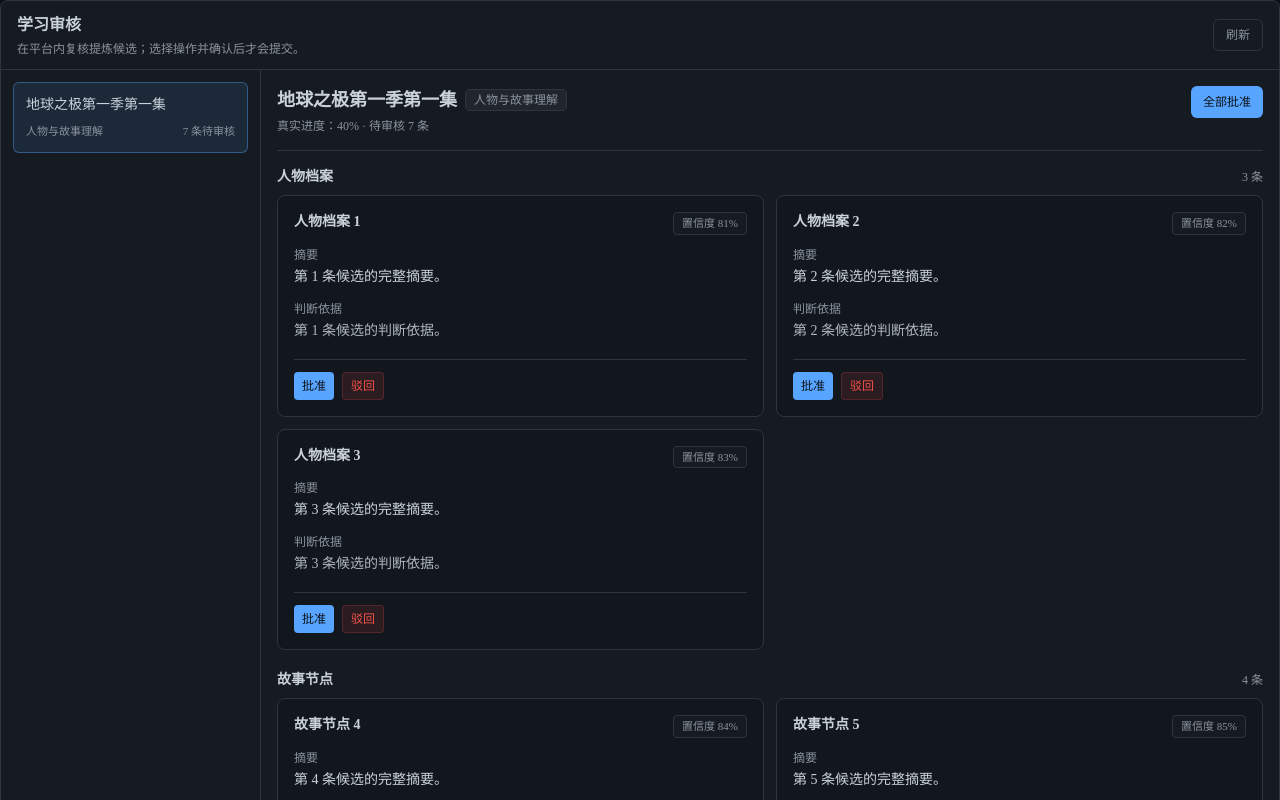
it: DirectorLearningReviewPanel › closes a local cancellation even when its remote outcome is unknown
Click the button with aria-label "批准：人物档案 1": [314, 386] box [294,372,334,400]
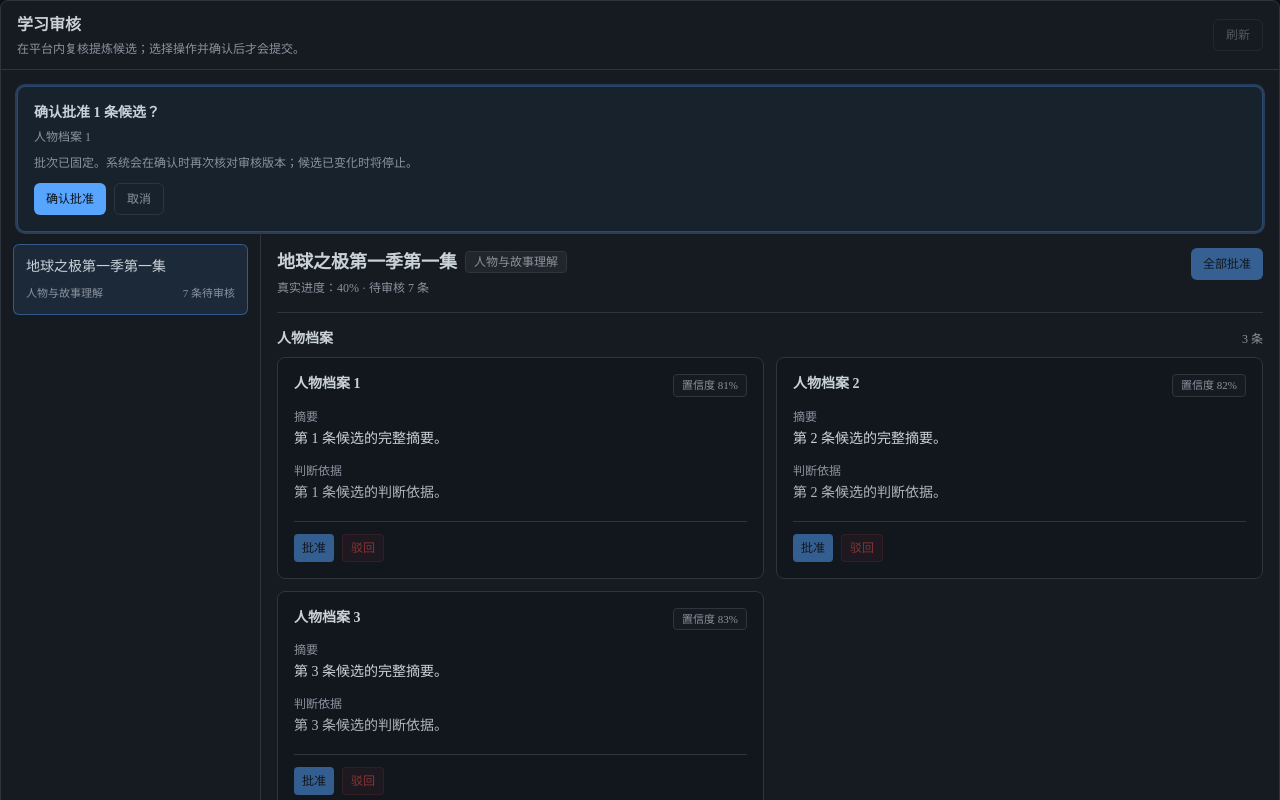
Click the button "取消": [139, 199] box [114,183,164,215]
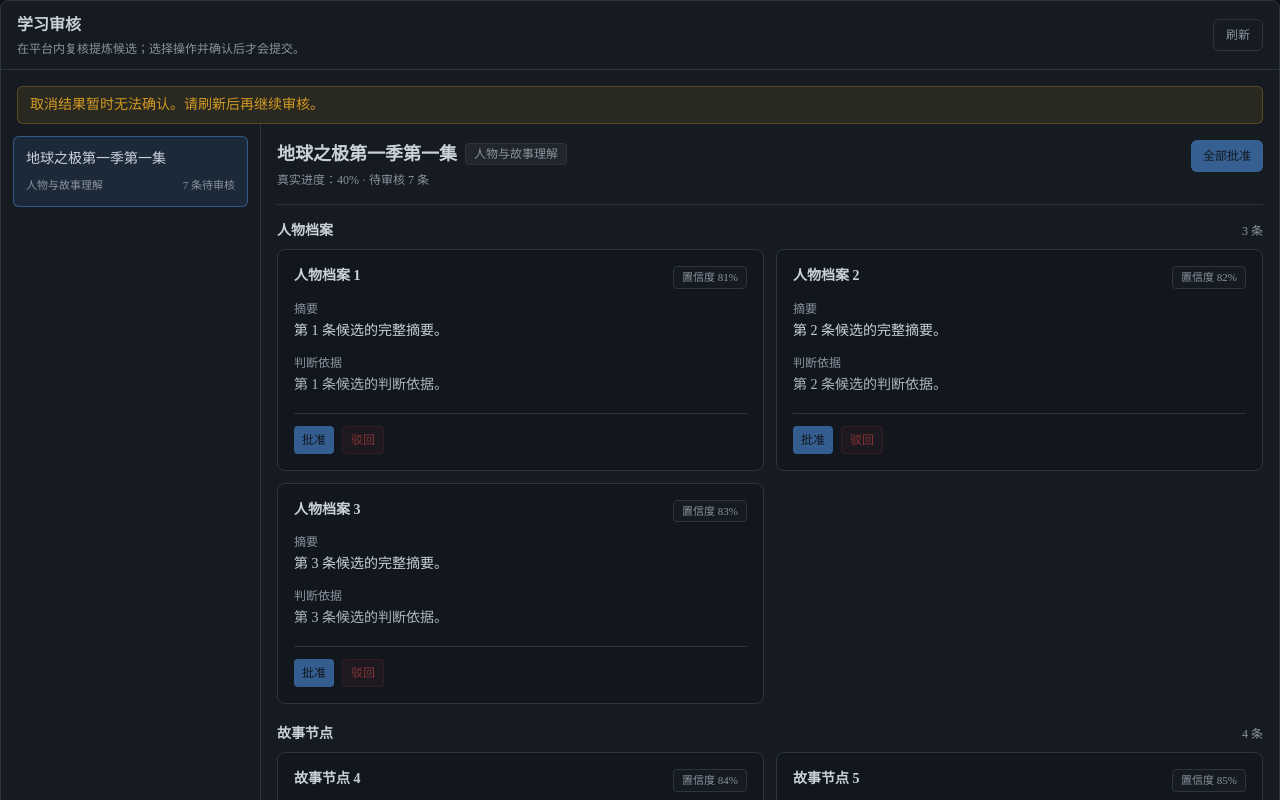
Result: the text "取消结果暂时无法确认。请刷新后再继续审核。" is shown at [17,86,1263,124]
Result: the dialog is gone
